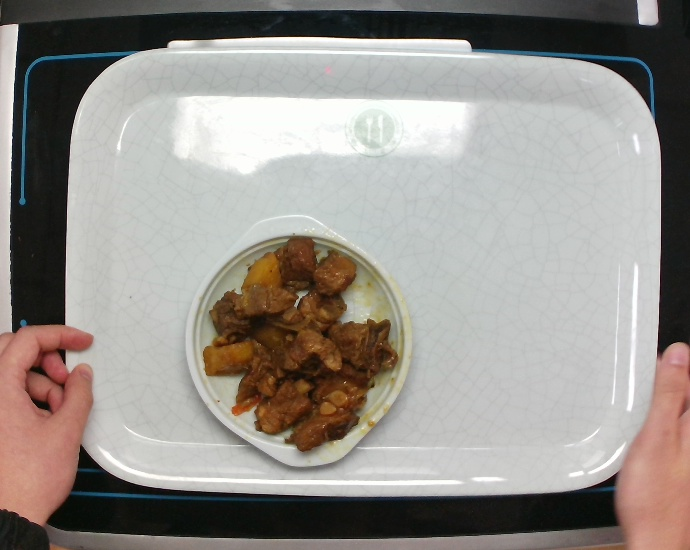JYsf-Shuang_Er_Pan: (187, 215, 414, 477)
